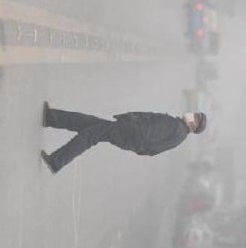person: (42, 99, 208, 176)
